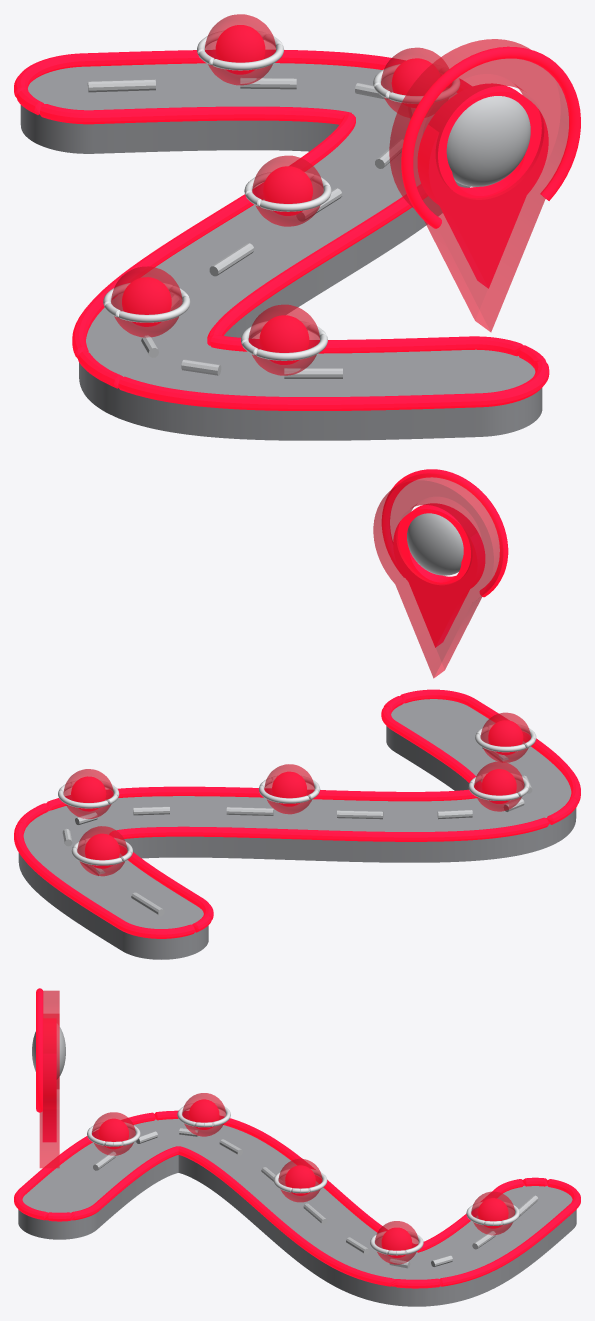
File: 44-customer-journey.glb
The picture shows the model from 3 angles, top to bottom: view 1: azimuth 30°, elevation 25°; view 2: azimuth 150°, elevation 25°; view 3: azimuth 270°, elevation 25°; orthographic projection. The views are drawn at different scales.
Visible parts, largest first — view 1: BC brushed iron, BC internal ruby light, BC ruby optical glass, BC satin iron, BC polished iron bevel; view 2: BC brushed iron, BC internal ruby light, BC ruby optical glass, BC satin iron, BC polished iron bevel; view 3: BC brushed iron, BC internal ruby light, BC ruby optical glass, BC satin iron, BC polished iron bevel.
Part boxes in pixels (x1,y1,x2,y2): BC brushed iron: (20,63,542,440); BC internal ruby light: (14,25,580,410); BC ruby optical glass: (111,14,569,375); BC satin iron: (87,77,530,378); BC polished iron bevel: (103,31,459,360); BC brushed iron: (18,699,576,959); BC internal ruby light: (14,469,580,938); BC ruby optical glass: (63,473,530,876); BC satin iron: (62,513,532,916); BC polished iron bevel: (58,724,536,865); BC brushed iron: (18,1119,576,1306); BC internal ruby light: (14,988,580,1288); BC ruby optical glass: (39,990,514,1264); BC satin iron: (32,1024,538,1268); BC polished iron bevel: (87,1103,519,1255).
Bounding box in the file's own units: 1.68 × 1.03 × 2.32.
